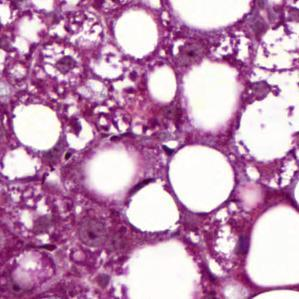steatosis: (169, 145, 234, 216)
